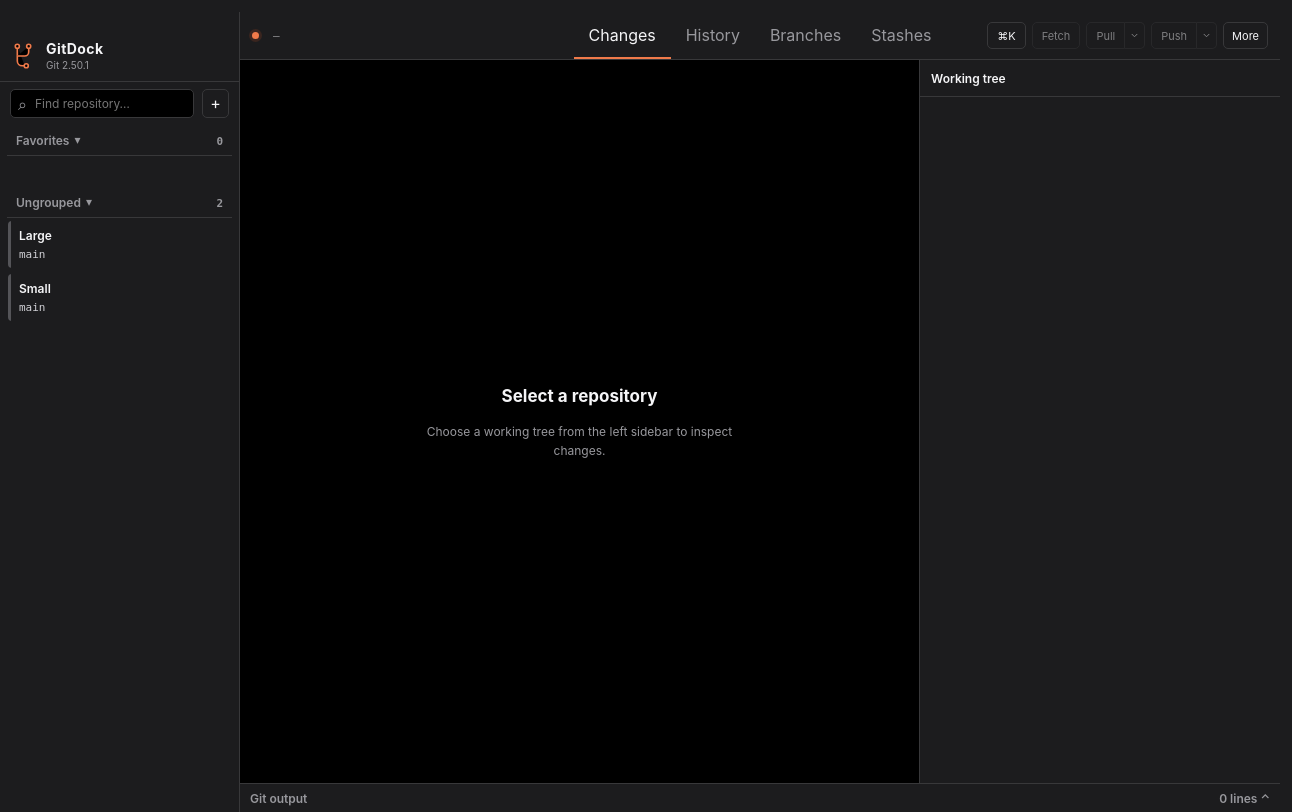
Test: hides pagination when switching to a repository without another page
What coordinates should you click on to do the following:
click the button with class "repo-row" showing "Large main"
I would click on:
 (120, 244)
Its box is [7,220,232,269].
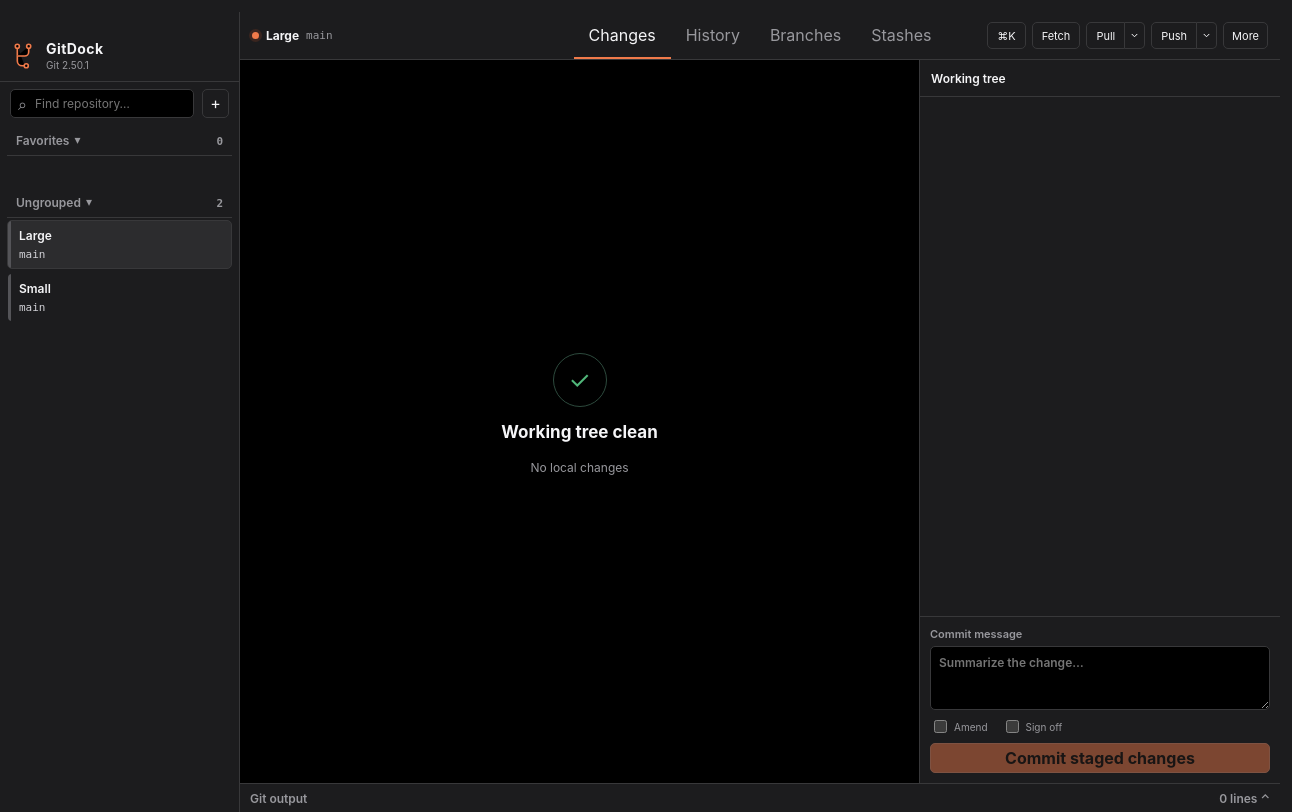
What coordinates should you click on to do the following:
click the tab "History"
I would click on:
 (713, 36)
Its box is [671,12,755,59].
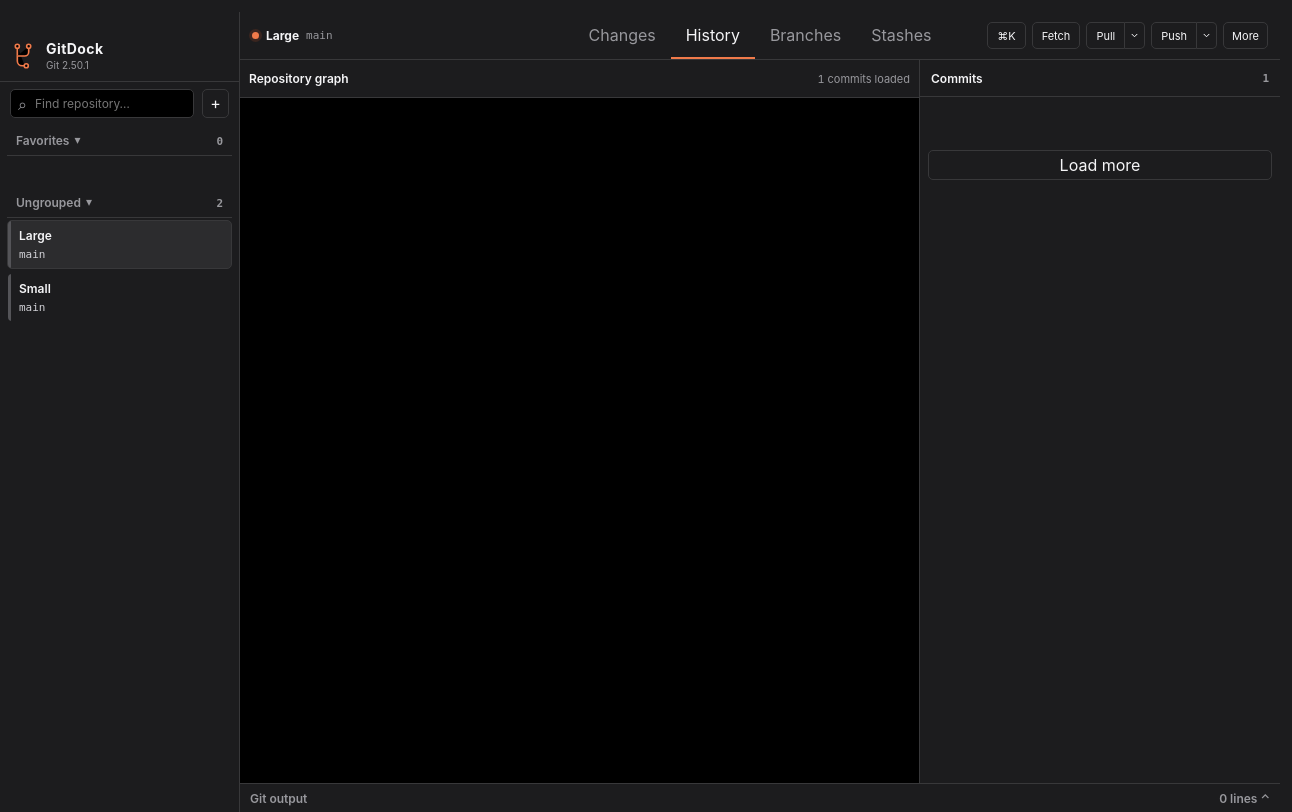
Expected: the button "Load more" is shown, [928,150,1272,180]
What coordinates should you click on to do the following:
click the button "Small main"
I would click on:
 (120, 298)
Its box is [7,273,232,322].
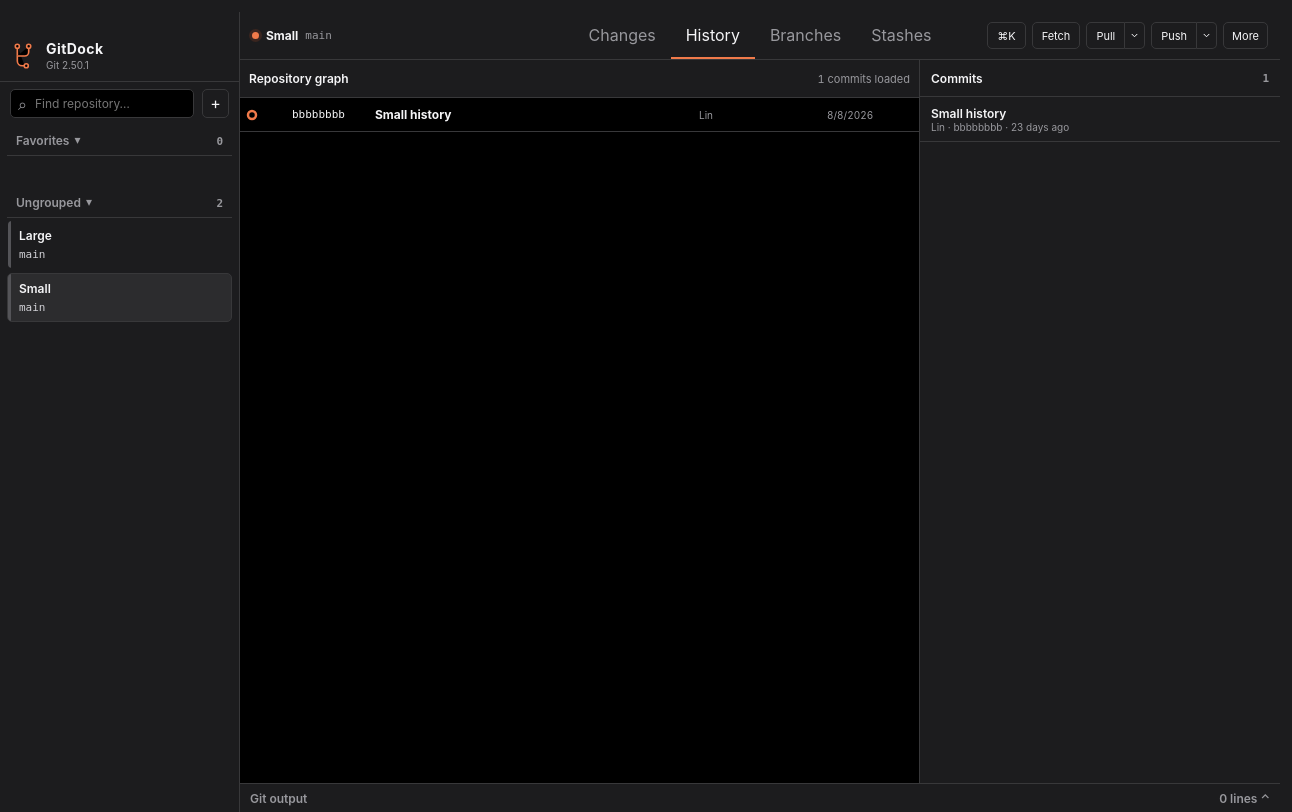
Expected: the text "Small history" below "Repository graph" is shown, [375,107,452,122]
Expected: the button "Load more" is gone
